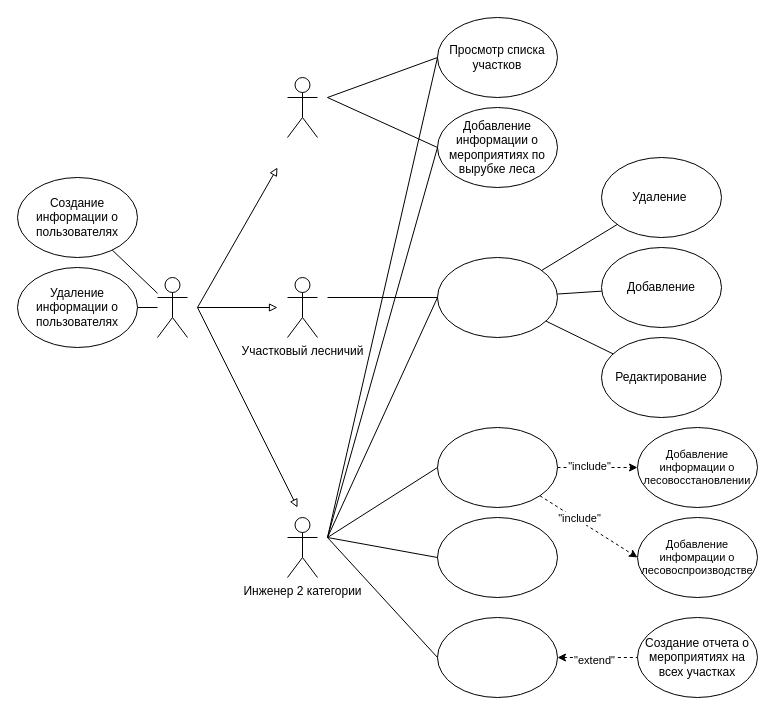
Some shapes in this 775 by 715 pixel diagram are drawn without their labels. Each missing label, with the box of its shape:
Администратор: (156, 276, 188, 338)
Добавление инфомрации о мероприятиях по защите леса: (436, 516, 558, 598)
Добавление информации о мероприятиях о выскадке леса: (436, 426, 558, 508)
Мастер участка: (286, 76, 318, 138)
Создание отчета о мероприятиях на участке: (436, 616, 558, 698)
Управление информацией о участках: (436, 256, 558, 338)
